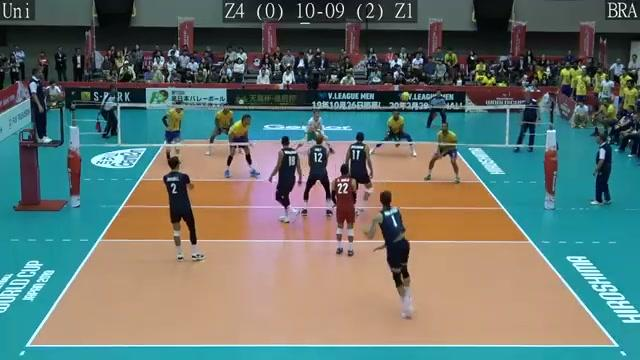ball: (399, 92, 413, 102)
